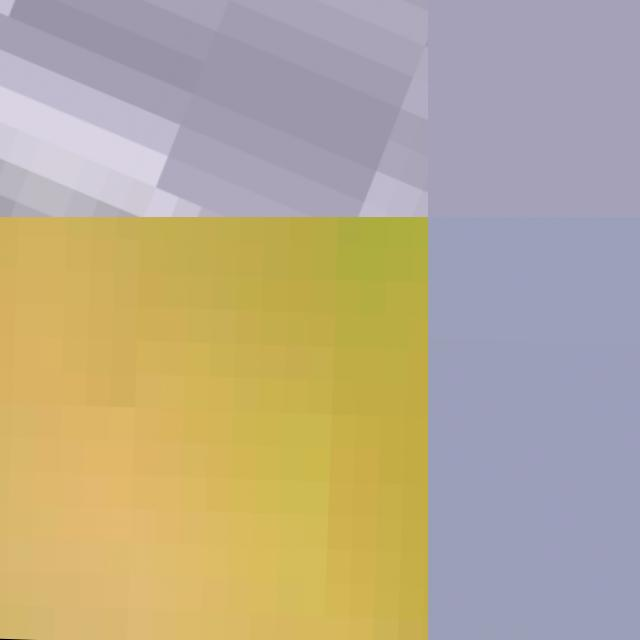drone: (0, 0, 428, 217)
